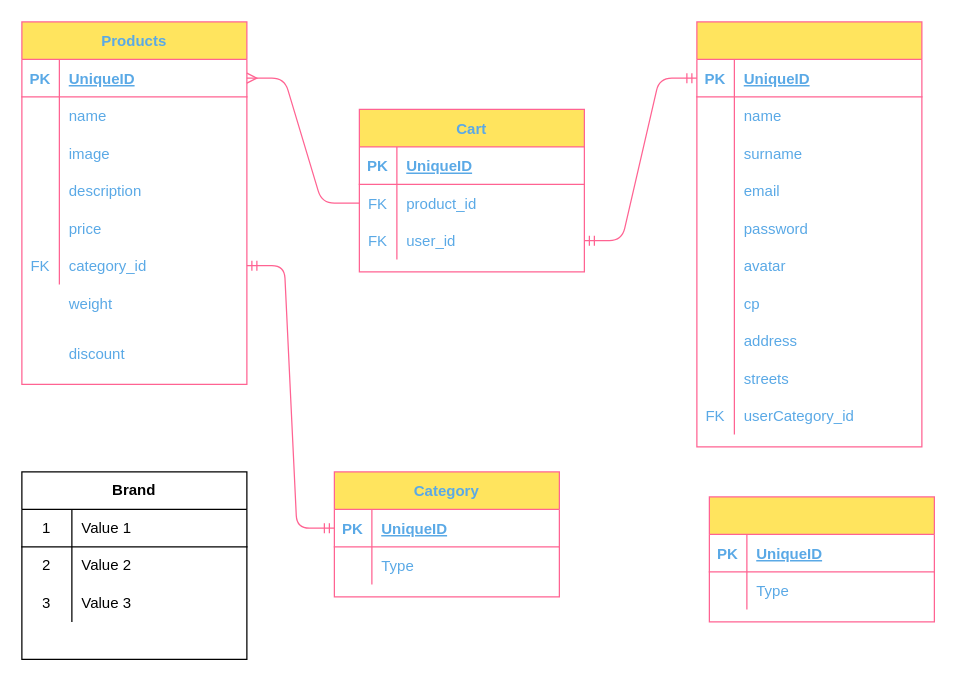
The diagram is 956 pixels wide and 681 high, and some of its shapes have lost their labels. Each missing label, with the box of its shape:
Table: (708, 496, 934, 622)
Users: (696, 21, 922, 447)
